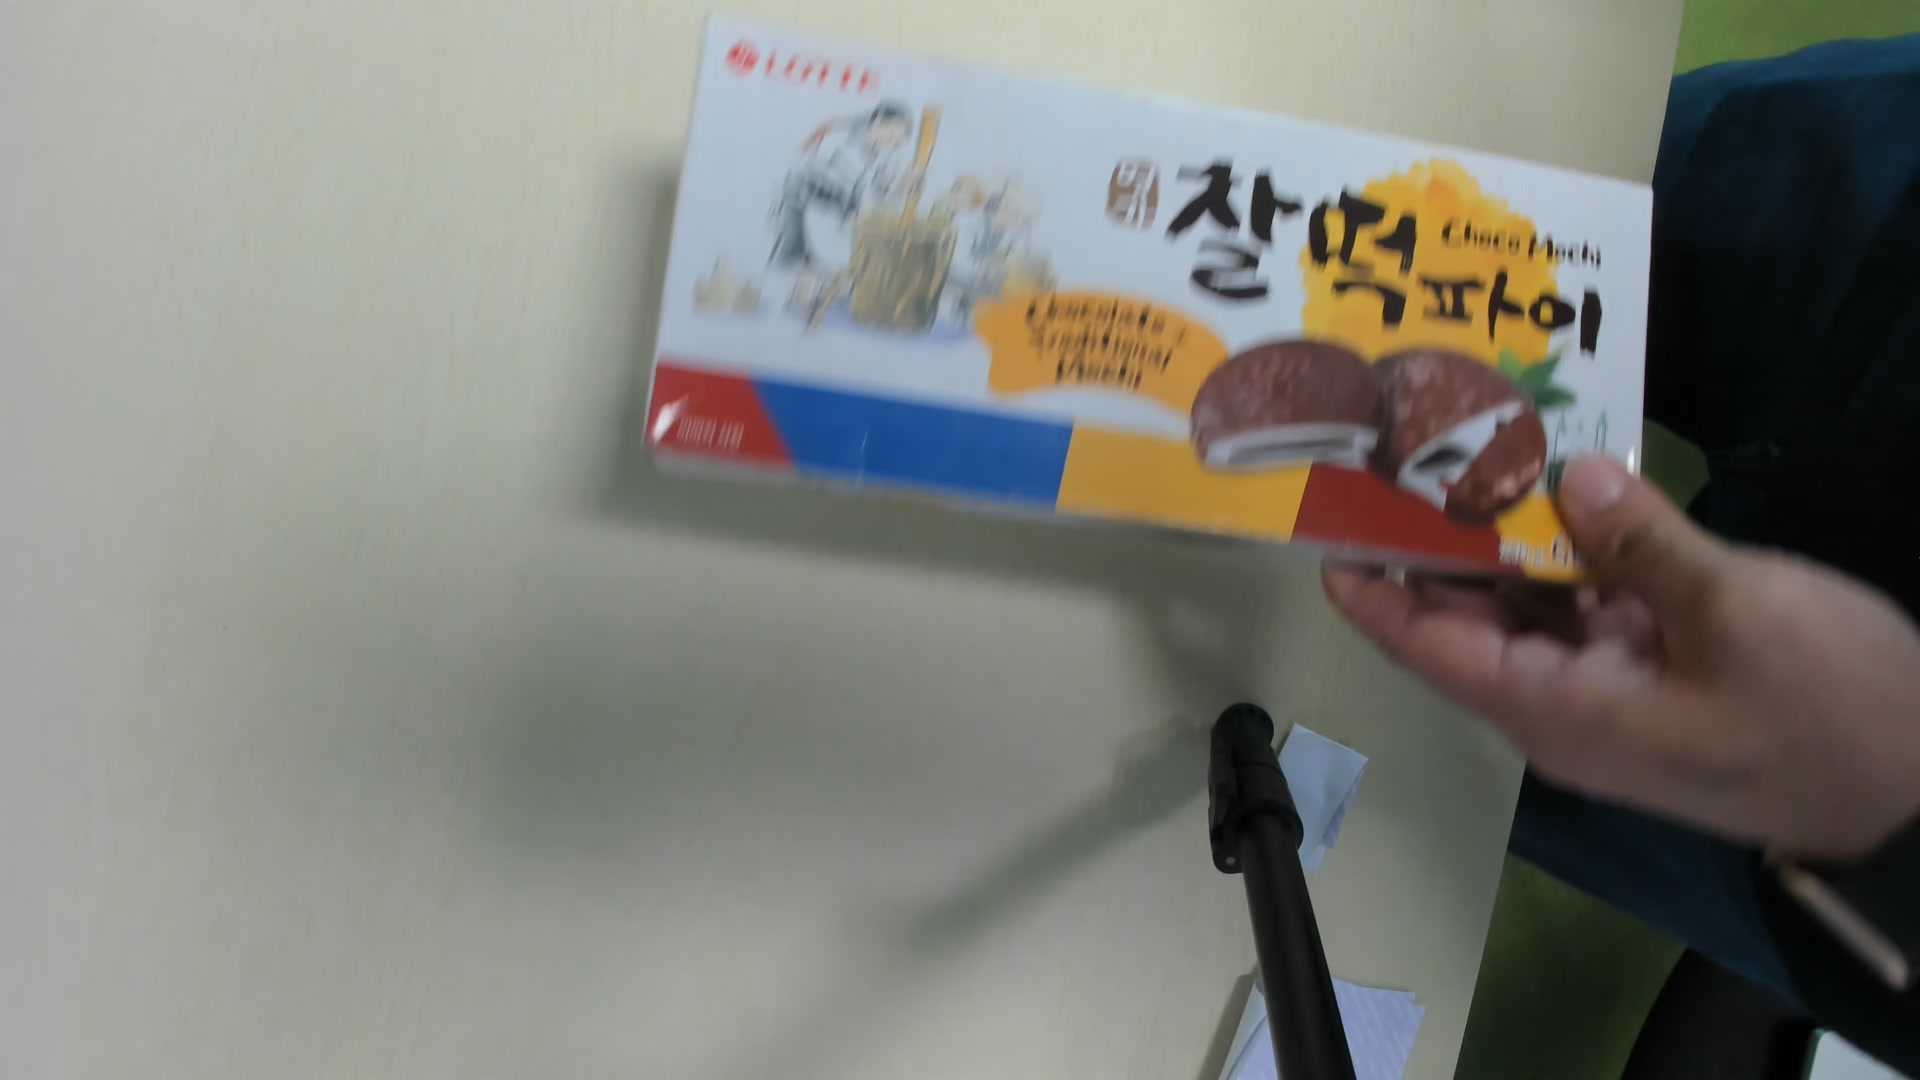SweetsChocolatesOthers_200-299g_NonHalal_Nonhealthy: (636, 22, 1654, 579)
